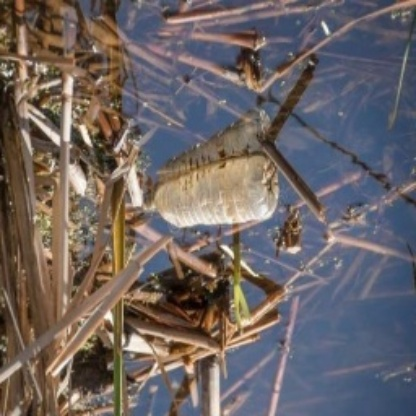bottle: (144, 154, 279, 223)
